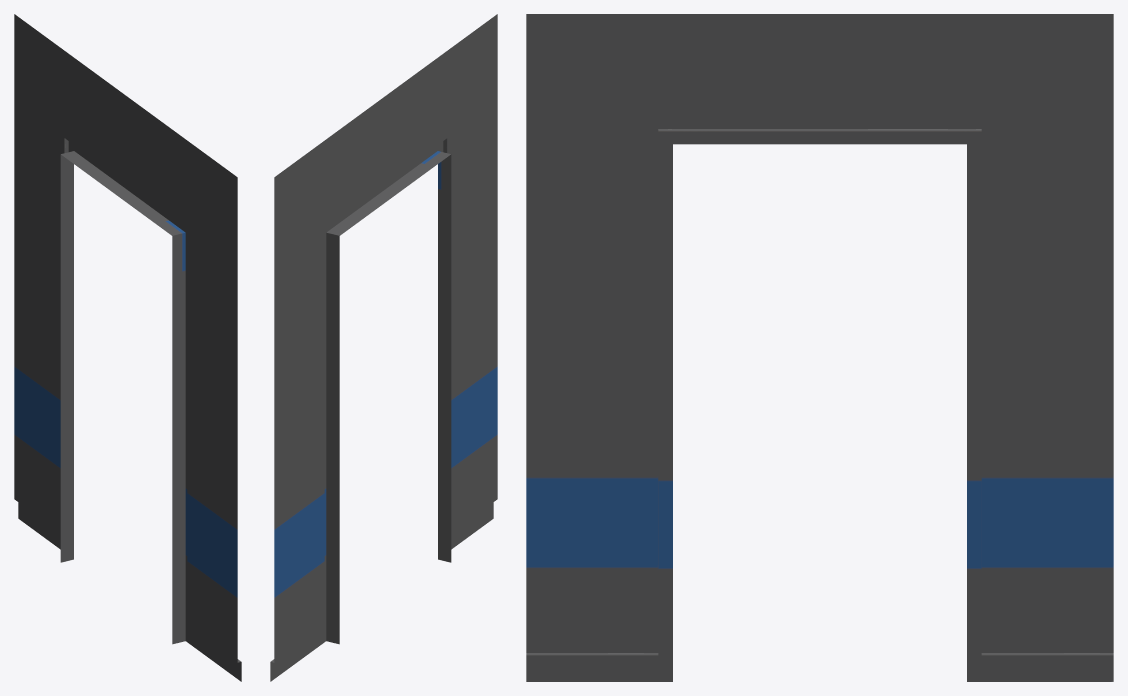
Rendered from DoorFrame_2x2_Office_A.fbx.
3 views of the same model, side by side, from view 1: azimuth 30°, elevation 25°; view 2: azimuth 150°, elevation 25°; view 3: azimuth 270°, elevation 25° (orthographic). The views are drawn at different scales.
Parts seen in each view (by area): view 1: DoorFrame_2x2_Office_A.001; view 2: DoorFrame_2x2_Office_A.001; view 3: DoorFrame_2x2_Office_A.001.
Boxes of the visible parts, x1=… form: DoorFrame_2x2_Office_A.001: x1=14, y1=14, x2=241, y2=681; DoorFrame_2x2_Office_A.001: x1=270, y1=14, x2=497, y2=681; DoorFrame_2x2_Office_A.001: x1=526, y1=14, x2=1113, y2=681.
Bounding box in the file's own units: 7 × 250 × 200.
